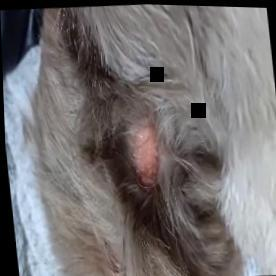skin_lesions: (125, 117, 162, 185)
